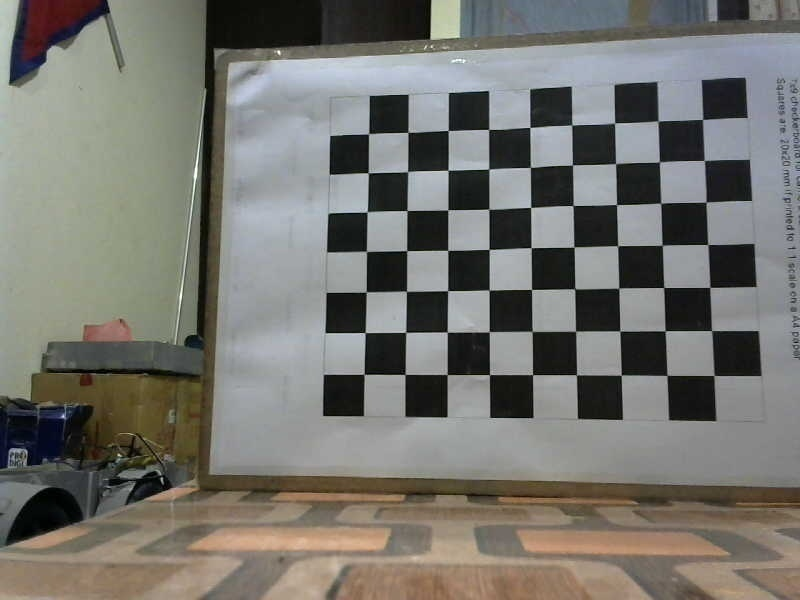block: (219, 48, 797, 498)
